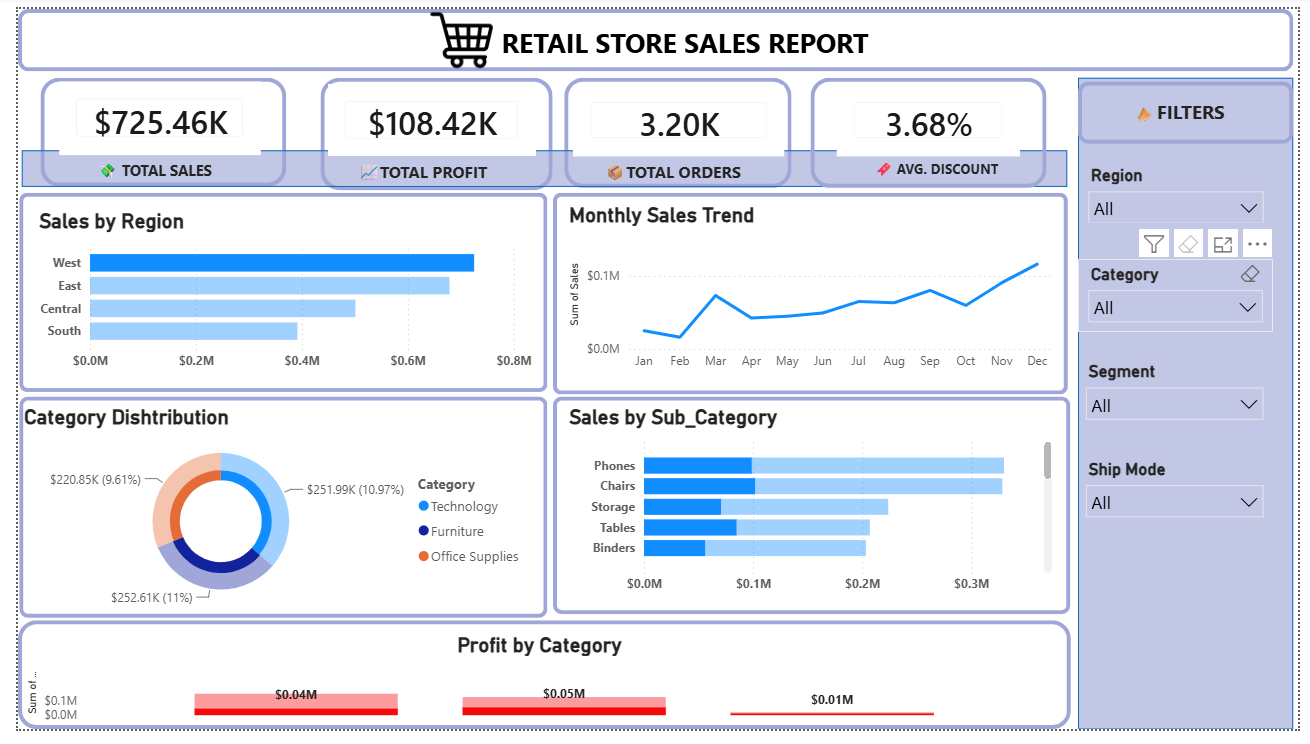

What the dashboard file says about the page in this screenshot:
{"tool":"powerbi","page":{"name":"REPORT","canvas":[1280,720],"ordinal":0},"visuals":[{"type":"textbox","box":[281.3,9.8,771.6,52.6],"z":0},{"type":"shape","box":[302,68.5,232.3,112.5],"z":1000},{"type":"shape","box":[22,68.5,245.8,108.8],"z":2000},{"type":"shape","box":[546.6,68.5,227.4,110.1],"z":3000},{"type":"shape","box":[3.7,140.6,1045.5,36.7],"z":4000},{"type":"shape","box":[1060.2,68.5,215.2,651.8],"z":5000},{"type":"shape","box":[0,0,1275.4,62.4],"z":6000},{"type":"shape","box":[1.2,183.4,528.3,199.3],"z":7000},{"type":"shape","box":[1.2,387.6,528.3,221.3],"z":8000},{"type":"shape","box":[534.4,387.6,517.3,217.7],"z":9000},{"type":"shape","box":[534.4,183.4,514.8,201.8],"z":10000},{"type":"barChart","title":"  Sales  by Region","fields":{"Category":["Sample - Superstore.Region"],"Y":["Sum(Sample - Superstore. Sales )"]},"box":[15.9,200.5,502.6,170],"z":11000},{"type":"donutChart","title":" Category Dishtribution","fields":{"Category":["Sample - Superstore.Category"],"Y":["Sum(Sample - Superstore. Sales )"]},"box":[1.2,396.2,513.6,209.1],"z":12000},{"type":"clusteredBarChart","title":" Sales  by Sub_Category","fields":{"Category":["Sample - Superstore.Sub_Category"],"Y":["Sum(Sample - Superstore. Sales )"]},"box":[546.6,396.2,492.8,196.9],"z":14000},{"type":"slicer","fields":{"Values":["Sample - Superstore.Region"]},"box":[1060.2,151.6,195.7,62.4],"z":15000},{"type":"slicer","fields":{"Values":["Sample - Superstore.Category"]},"box":[1060.2,249.5,194.4,73.4],"z":16000},{"type":"slicer","fields":{"Values":["Sample - Superstore.Segment"]},"box":[1057.8,347.3,198.1,97.8],"z":17000},{"type":"textbox","box":[59.9,146.7,182.2,117.4],"z":18000},{"type":"textbox","box":[335.1,146.7,245.8,67.3],"z":19000},{"type":"textbox","box":[580.8,146.7,209.1,70.9],"z":20000},{"type":"shape","box":[0,611.4,1052.9,108.8],"z":21000},{"type":"shape","box":[1060.2,72.1,215.2,62.4],"z":22000},{"type":"slicer","fields":{"Values":["Sample - Superstore.Ship_Mode"]},"box":[1057.8,445.1,198.1,132.1],"z":23000},{"type":"shape","box":[792.4,68.5,236,110.1],"z":24000},{"type":"textbox","box":[1096.9,84.4,137,40.4],"z":25000},{"type":"textbox","box":[843.8,146.7,141.8,36.7],"z":26000},{"type":"image","box":[341.2,0,205.4,62.4],"z":27000},{"type":"clusteredColumnChart","title":" Profit by Category","fields":{"Y":["Sum(Sample - Superstore.Profit)"],"Category":["Sample - Superstore.Category"]},"box":[3.7,623.6,1035.7,96.6],"z":28000},{"type":"cardVisual","fields":{"Data":["Sum(Sample - Superstore. Sales )"]},"box":[41.2,72.5,201.2,73.8],"z":29000},{"type":"cardVisual","fields":{"Data":["Sum(Sample - Superstore.Profit)"]},"box":[310.6,74.6,207.9,72.1],"z":30000},{"type":"cardVisual","fields":{"Data":["Sample - Superstore.total_orders"]},"box":[555.2,75.8,211.6,70.9],"z":31000},{"type":"cardVisual","fields":{"Data":["Avg(Sample - Superstore.Discount)"]},"box":[819.3,75.8,183.4,70.9],"z":32000},{"type":"lineChart","title":"Monthly Sales Trend","fields":{"Category":["Sample - Superstore.month"],"Y":["Sum(Sample - Superstore. Sales )"]},"box":[546.2,193.8,492.5,176.2],"z":32001}]}

Visuals, with their boxes in screenshot pixels (x1, y1, x2, y2), scaled from the page's 1280x720 canvas onto the 1310x744 screenshot:
textbox: select_region(288, 10, 1078, 64)
shape: select_region(309, 71, 547, 187)
shape: select_region(23, 71, 274, 183)
shape: select_region(559, 71, 792, 185)
shape: select_region(4, 145, 1074, 183)
shape: select_region(1085, 71, 1305, 743)
shape: select_region(0, 0, 1305, 64)
shape: select_region(1, 190, 542, 395)
shape: select_region(1, 401, 542, 629)
shape: select_region(547, 401, 1076, 625)
shape: select_region(547, 190, 1074, 398)
"  Sales  by Region" barChart: select_region(16, 207, 531, 383)
" Category Dishtribution" donutChart: select_region(1, 409, 527, 625)
" Sales  by Sub_Category" clusteredBarChart: select_region(559, 409, 1064, 613)
slicer - Sample - Superstore.Region: select_region(1085, 157, 1285, 221)
slicer - Sample - Superstore.Category: select_region(1085, 258, 1284, 334)
slicer - Sample - Superstore.Segment: select_region(1083, 359, 1285, 460)
textbox: select_region(61, 152, 248, 273)
textbox: select_region(343, 152, 595, 221)
textbox: select_region(594, 152, 808, 225)
shape: select_region(0, 632, 1078, 743)
shape: select_region(1085, 75, 1305, 139)
slicer - Sample - Superstore.Ship_Mode: select_region(1083, 460, 1285, 596)
shape: select_region(811, 71, 1053, 185)
textbox: select_region(1123, 87, 1263, 129)
textbox: select_region(864, 152, 1009, 190)
image: select_region(349, 0, 559, 64)
" Profit by Category" clusteredColumnChart: select_region(4, 644, 1064, 743)
cardVisual - Sum(Sample - Superstore. Sales ): select_region(42, 75, 248, 151)
cardVisual - Sum(Sample - Superstore.Profit): select_region(318, 77, 531, 152)
cardVisual - Sample - Superstore.total_orders: select_region(568, 78, 785, 152)
cardVisual - Avg(Sample - Superstore.Discount): select_region(839, 78, 1026, 152)
"Monthly Sales Trend" lineChart: select_region(559, 200, 1063, 382)
